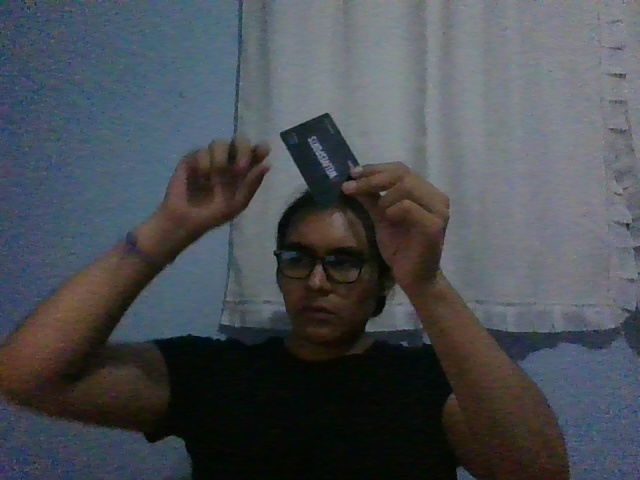tarjeta: (278, 112, 360, 211)
